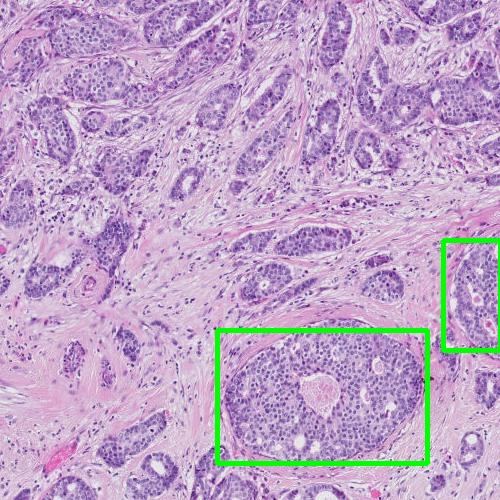DCIS: (217, 330, 427, 463), (443, 240, 500, 350)
